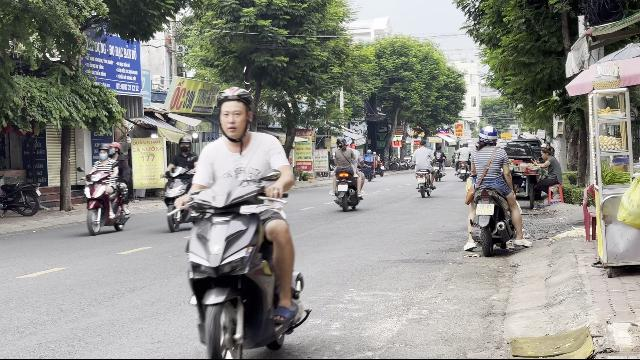helmet: (215, 87, 258, 142), (477, 125, 499, 147), (98, 142, 110, 156), (110, 142, 120, 156)
licenseplate: (476, 204, 494, 214)
motorcyclist: (166, 86, 310, 358), (461, 124, 525, 256), (80, 141, 132, 236)
